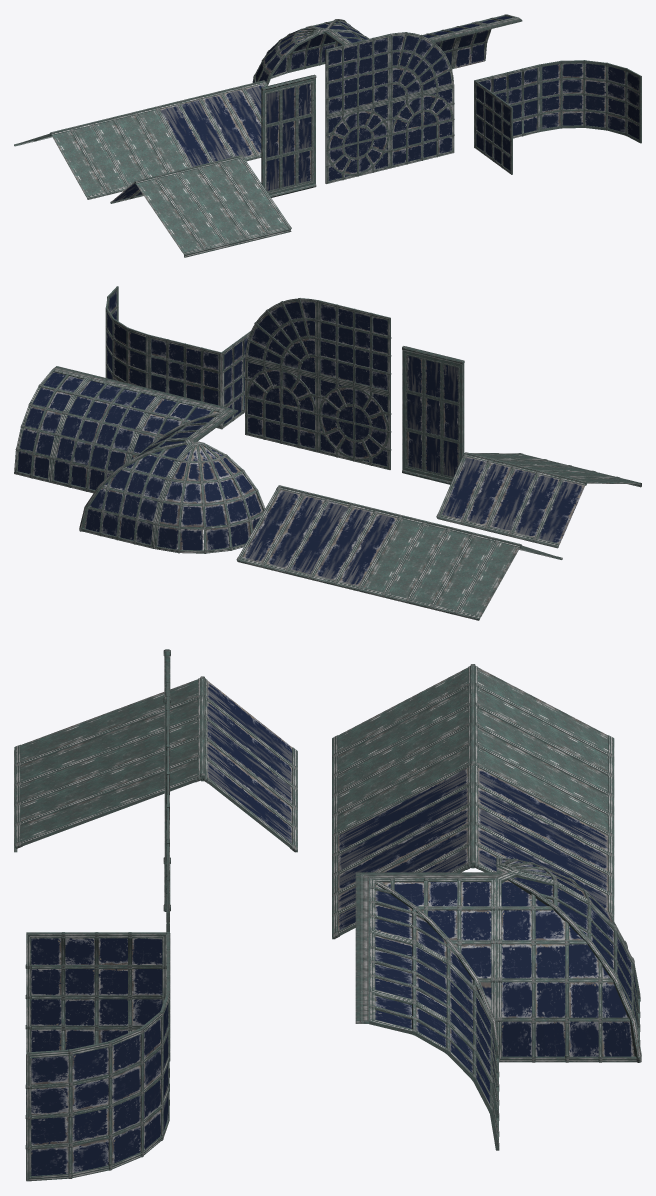
File: steelglass.fbx
The picture shows the model from 3 angles, top to bottom: view 1: azimuth 30°, elevation 25°; view 2: azimuth 150°, elevation 25°; view 3: azimuth 270°, elevation 25°; orthographic projection. The views are drawn at different scales.
Parts seen in each view (by area): view 1: ind_window_roof_03_inst_001, ind_window_roof_01_inst_001, ind_steelglas_base_corner_01_inst_001, ind_window_roof_02_inst_001, ind_window_01_inst_001, ind_steelglas_base_corner_02_inst_001, ind_steelglas_base_01_inst_001, ind_steelglas_base_03_inst_001, ind_steelglas_base_02_inst_001, ind_steelglas_roof_02_inst_001, ind_steelglas_roof_corner_02_inst_001, ind_steelglas_roof_corner_01_inst_001 (+3 smaller); view 2: ind_window_roof_01_inst_001, ind_window_roof_03_inst_001, ind_window_roof_02_inst_001, ind_steelglas_roof_corner_01_inst_001, ind_steelglas_roof_01_inst_001, ind_window_01_inst_001, ind_steelglas_roof_corner_02_inst_001, ind_steelglas_base_corner_02_inst_001, ind_steelglas_base_01_inst_001, ind_steelglas_base_03_inst_001, ind_steelglas_base_02_inst_001, ind_steelglas_roof_02_inst_001 (+3 smaller); view 3: ind_window_roof_03_inst_001, ind_window_roof_01_inst_001, ind_steelglas_roof_corner_02_inst_001, ind_window_roof_02_inst_001, ind_steelglas_base_corner_01_inst_001, ind_steelglas_base_corner_02_inst_001, ind_steelglas_roof_corner_03_inst_001, ind_steelglas_roof_01_inst_001, ind_steelglas_roof_01_mod1_inst_001, ind_steelglas_roof_corner_01_inst_001, ind_window_01_inst_001, ind_steelglas_roof_02_inst_001.
Boxes of the visible parts, box(x1,y1,x2,y2) form: ind_window_roof_03_inst_001: box(110, 155, 291, 257); ind_window_roof_01_inst_001: box(14, 106, 191, 199); ind_steelglas_base_corner_01_inst_001: box(539, 60, 641, 143); ind_window_roof_02_inst_001: box(158, 80, 267, 166); ind_window_01_inst_001: box(261, 74, 316, 197); ind_steelglas_base_corner_02_inst_001: box(474, 64, 539, 174); ind_steelglas_base_01_inst_001: box(325, 34, 390, 116); ind_steelglas_base_03_inst_001: box(325, 101, 390, 183); ind_steelglas_base_02_inst_001: box(390, 86, 454, 168); ind_steelglas_roof_02_inst_001: box(390, 32, 454, 101); ind_steelglas_roof_corner_02_inst_001: box(288, 19, 366, 72); ind_steelglas_roof_corner_01_inst_001: box(252, 26, 324, 85); ind_window_roof_01_inst_001: box(358, 514, 562, 620); ind_window_roof_03_inst_001: box(436, 452, 641, 548); ind_window_roof_02_inst_001: box(236, 485, 399, 591); ind_steelglas_roof_corner_01_inst_001: box(153, 441, 265, 553); ind_steelglas_roof_01_inst_001: box(50, 375, 165, 493); ind_window_01_inst_001: box(402, 346, 464, 484); ind_steelglas_roof_corner_02_inst_001: box(79, 439, 195, 548); ind_steelglas_base_corner_02_inst_001: box(148, 331, 250, 429); ind_steelglas_base_01_inst_001: box(317, 300, 391, 394); ind_steelglas_base_03_inst_001: box(317, 377, 391, 469); ind_steelglas_base_02_inst_001: box(245, 359, 317, 452); ind_steelglas_roof_02_inst_001: box(245, 298, 317, 376); ind_window_roof_03_inst_001: box(14, 676, 297, 852); ind_window_roof_01_inst_001: box(332, 664, 614, 837); ind_steelglas_roof_corner_02_inst_001: box(496, 872, 641, 1062); ind_window_roof_02_inst_001: box(332, 763, 614, 939); ind_steelglas_base_corner_01_inst_001: box(25, 993, 169, 1181); ind_steelglas_base_corner_02_inst_001: box(25, 932, 170, 1105); ind_steelglas_roof_corner_03_inst_001: box(355, 872, 499, 1062); ind_steelglas_roof_01_inst_001: box(355, 931, 499, 1120); ind_steelglas_roof_01_mod1_inst_001: box(355, 991, 499, 1150); ind_steelglas_roof_corner_01_inst_001: box(496, 857, 640, 1001); ind_window_01_inst_001: box(163, 649, 170, 911); ind_steelglas_roof_02_inst_001: box(166, 726, 169, 913).
Size of the model in its own units: 22.19 by 6.02 by 13.35.
